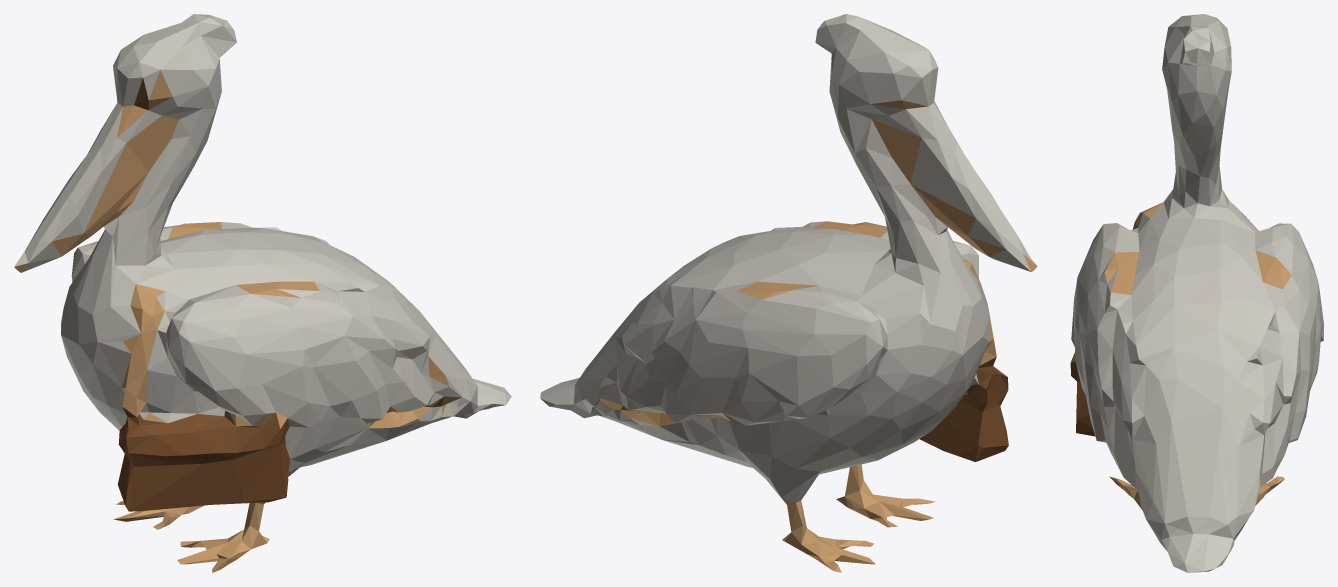
3 renders of one model, left to right at view 1: azimuth 30°, elevation 25°; view 2: azimuth 150°, elevation 25°; view 3: azimuth 270°, elevation 25°, orthographic. The views are drawn at different scales.
Size of the model in its own units: 0.9967 by 0.9971 by 0.4951.
